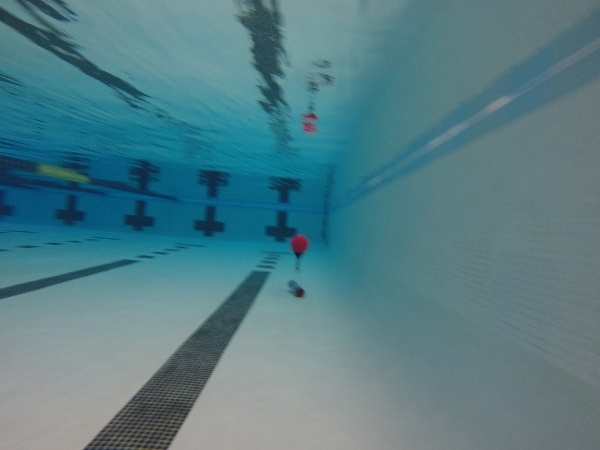buoy_red: (288, 232, 310, 258)
